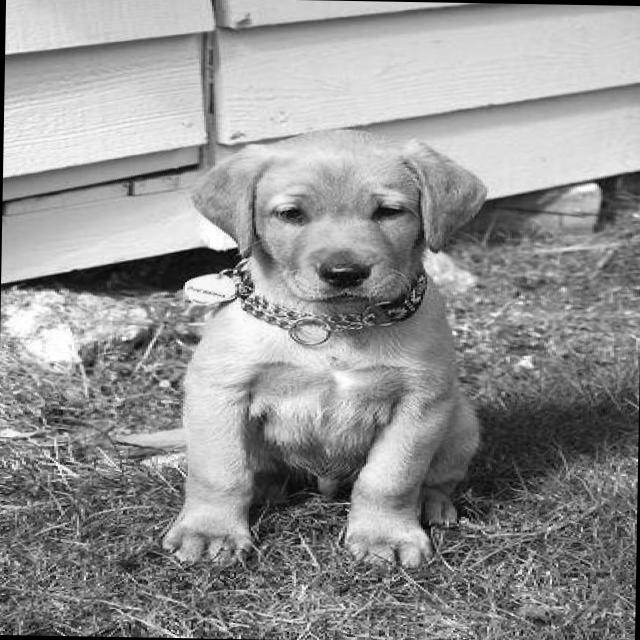sitting: (93, 117, 506, 572)
